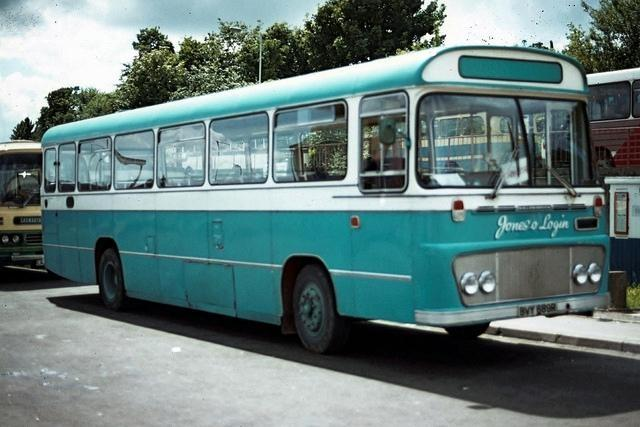bus: (40, 47, 612, 354), (587, 65, 640, 272), (0, 139, 42, 266)
